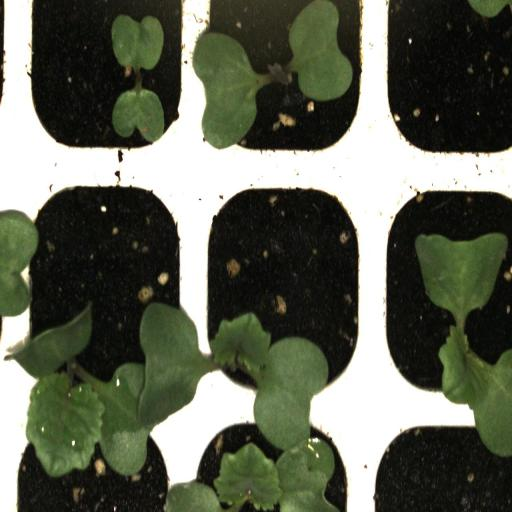seedling: (17, 172, 195, 424), (192, 172, 373, 406), (374, 172, 512, 413), (192, 0, 374, 172), (17, 3, 192, 168)
